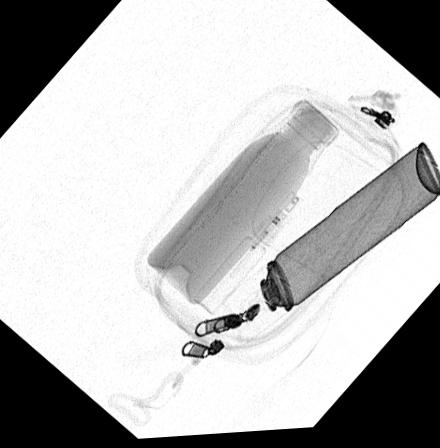Sprayer: (219, 146, 440, 348)
